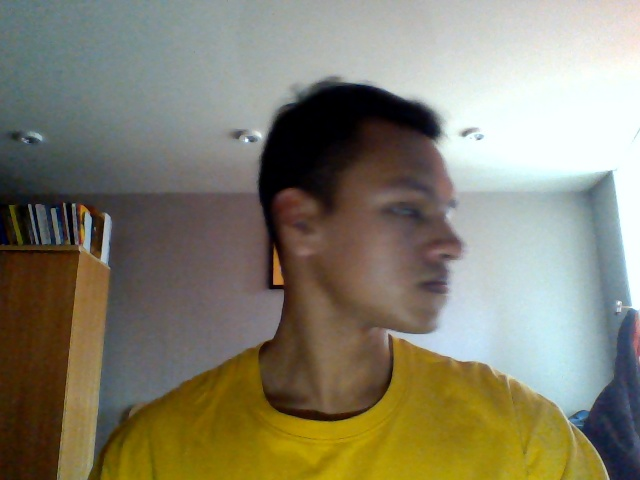no_mask: (291, 216, 466, 335)
